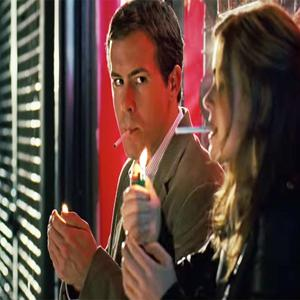cigarette: (174, 124, 214, 136), (111, 129, 130, 149)
